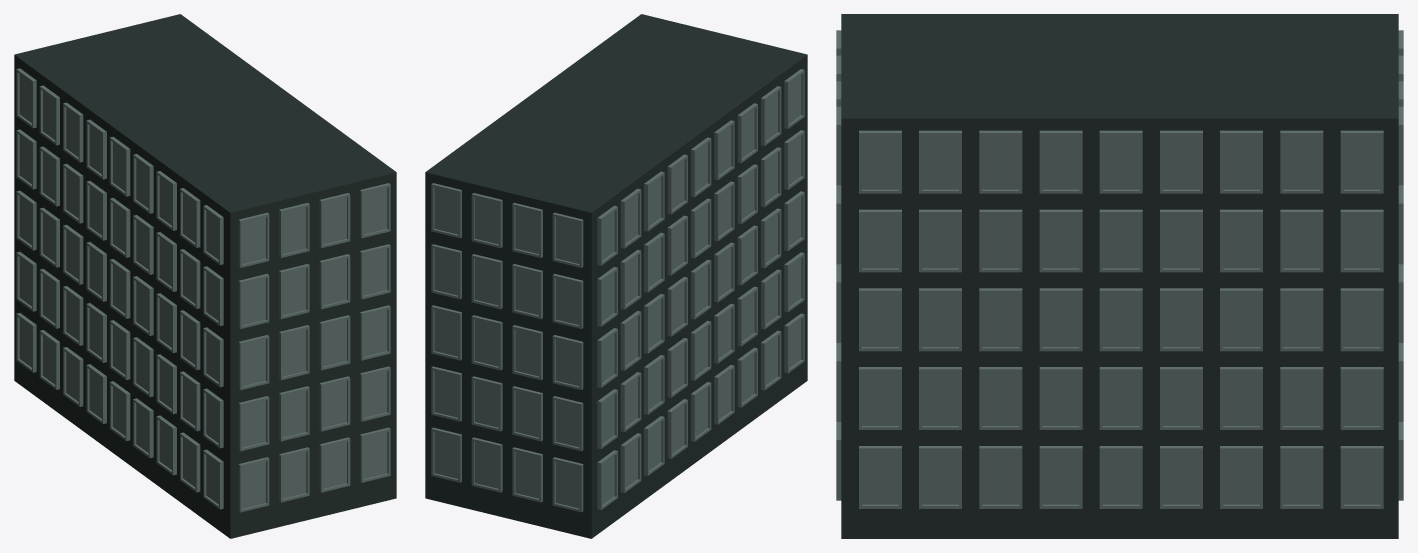
The model's file is bina_2.fbx.
3 renders of one model, left to right at view 1: azimuth 30°, elevation 25°; view 2: azimuth 150°, elevation 25°; view 3: azimuth 270°, elevation 25°, orthographic. The views are drawn at different scales.
Parts seen in each view (by area): view 1: bina_2; view 2: bina_2; view 3: bina_2.
Part boxes in pixels (<box>): bina_2: <box>14,14,396,538</box>; bina_2: <box>425,14,807,538</box>; bina_2: <box>836,14,1403,538</box>.
Bounding box in the file's own units: 175 × 314 × 384.
1 material, 1 textured.
